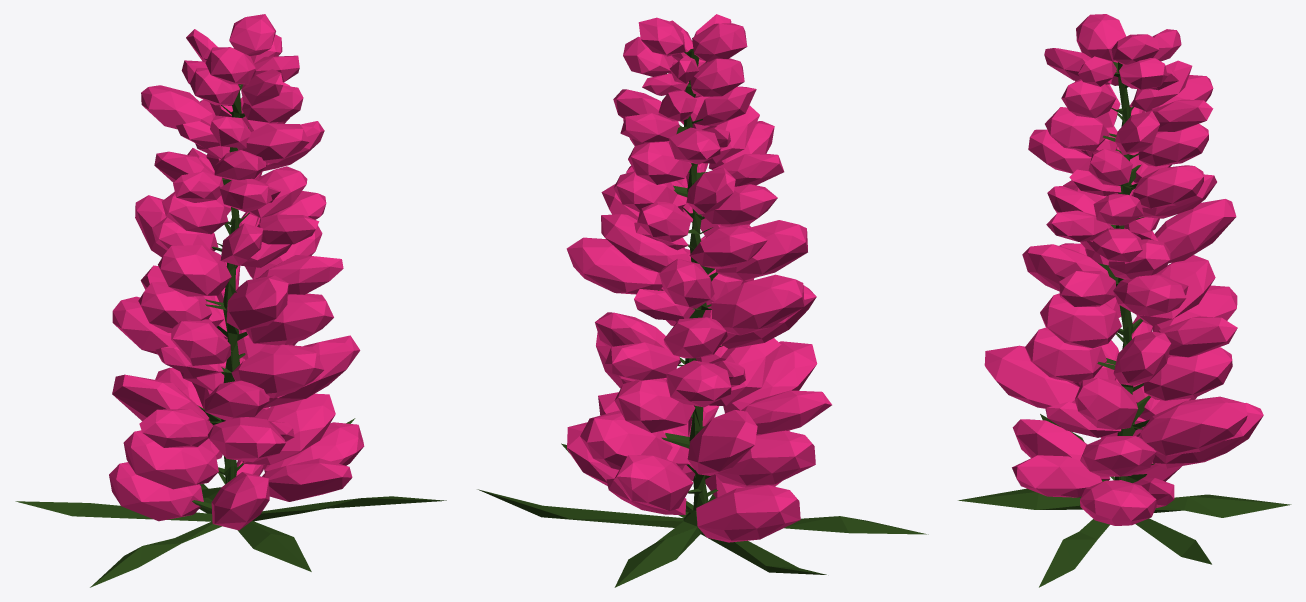
The model's file is berries.LOD.fbx.
The picture shows the model from 3 angles, left to right: view 1: azimuth 30°, elevation 25°; view 2: azimuth 150°, elevation 25°; view 3: azimuth 270°, elevation 25°; orthographic projection. The views are drawn at different scales.
Parts seen in each view (by area): view 1: BERRY_LOD0; view 2: BERRY_LOD0; view 3: BERRY_LOD0.
Boxes of the visible parts, x1,y1,x2,y2 form: BERRY_LOD0: [15, 14, 446, 587]; BERRY_LOD0: [477, 14, 928, 587]; BERRY_LOD0: [958, 14, 1291, 587].
Size of what is drawn, in the model's own units: 165 by 217 by 134.
